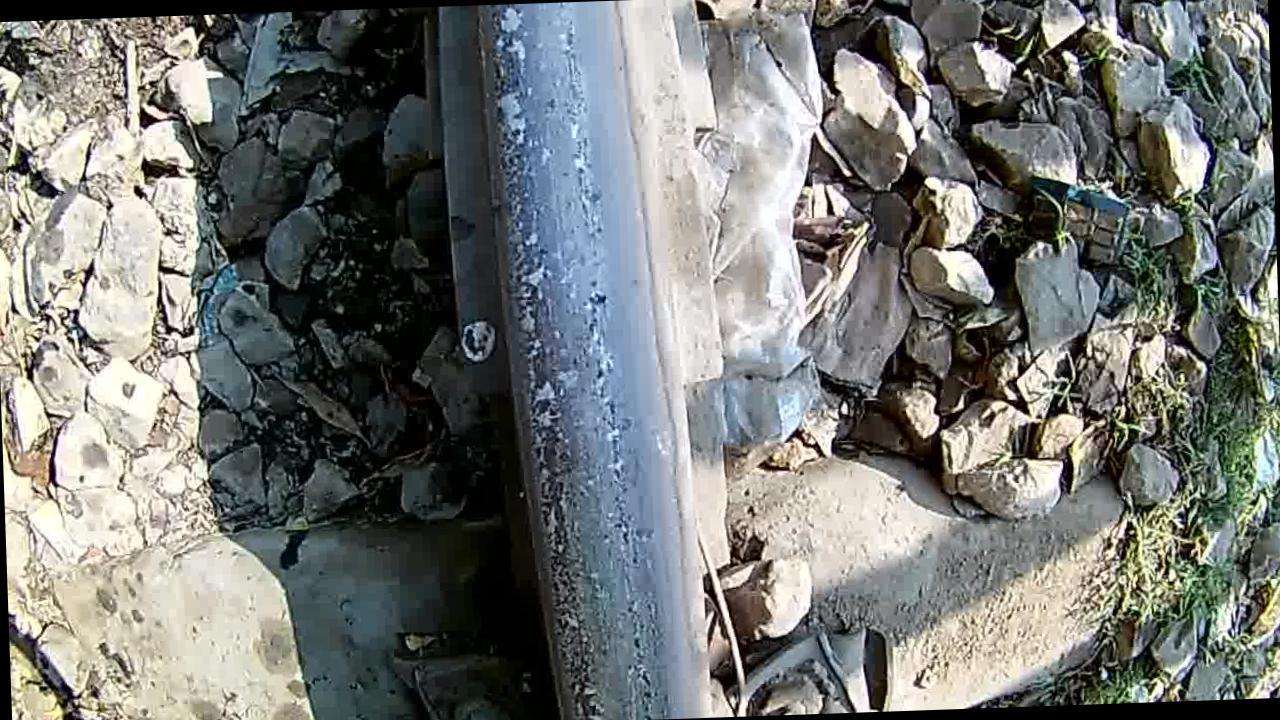clip_missing: (460, 0, 704, 720)
